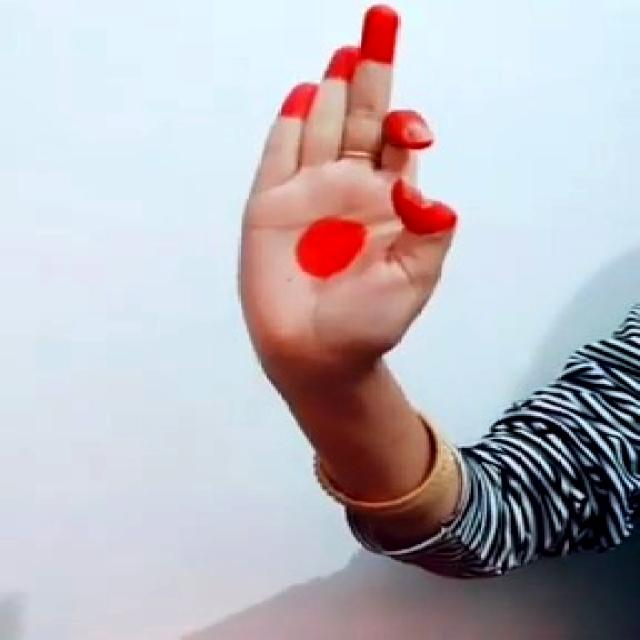Arala: (219, 7, 497, 360)
bangle: (273, 416, 475, 524)
